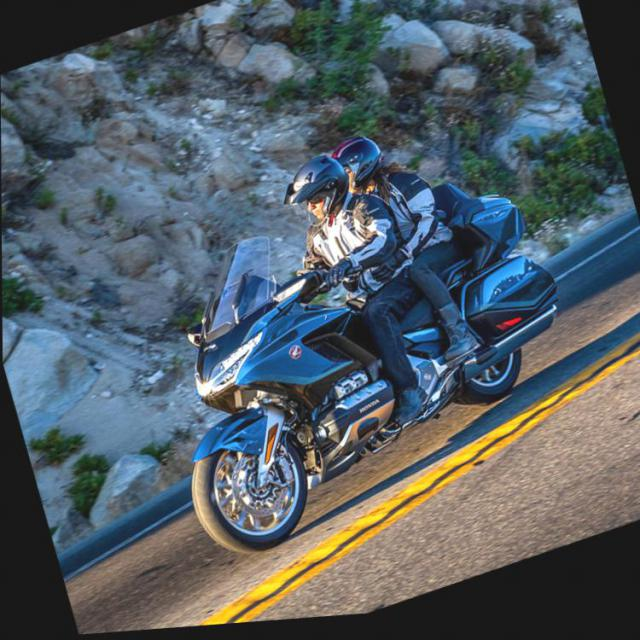Gold Wing: (126, 143, 598, 576)
